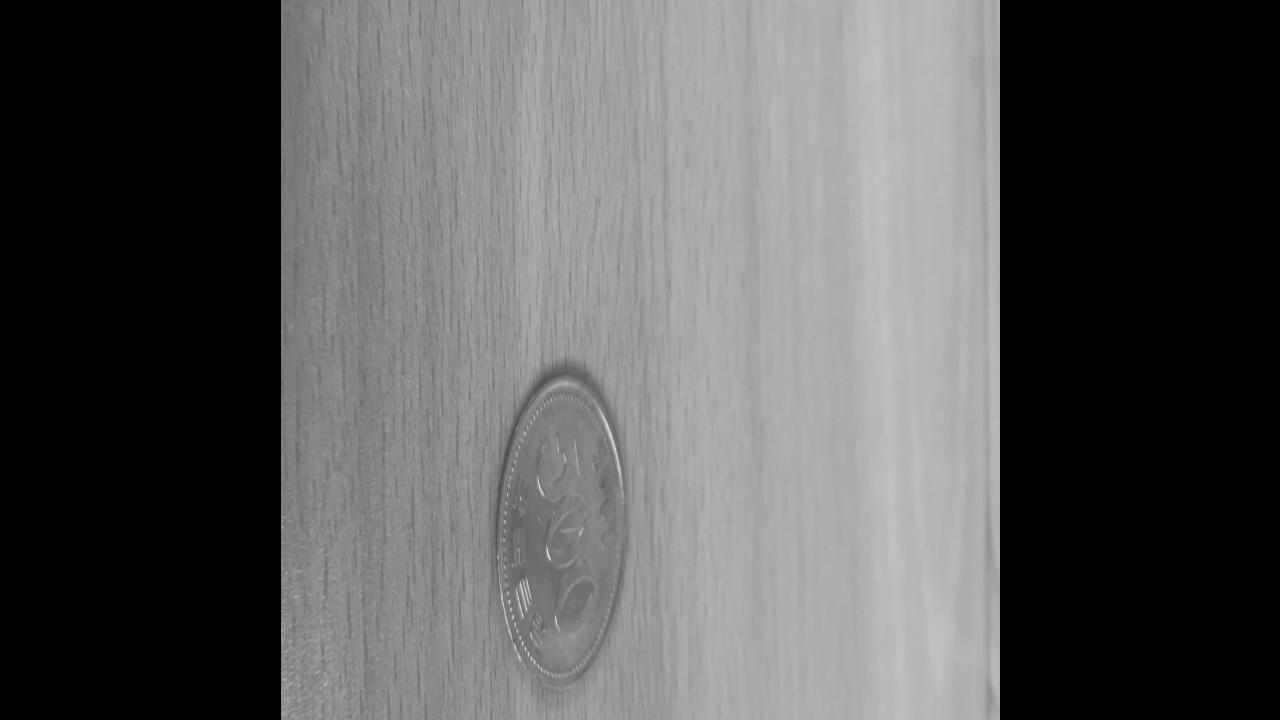coin: (493, 370, 627, 696)
